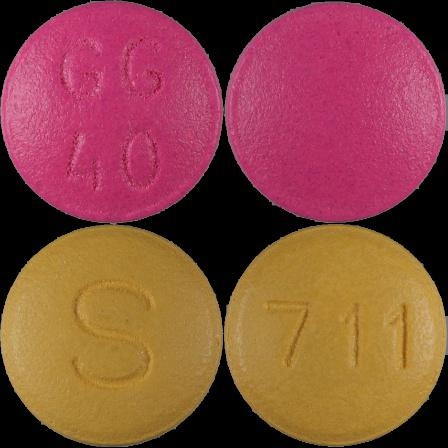42549-613: (0, 0, 224, 224)
